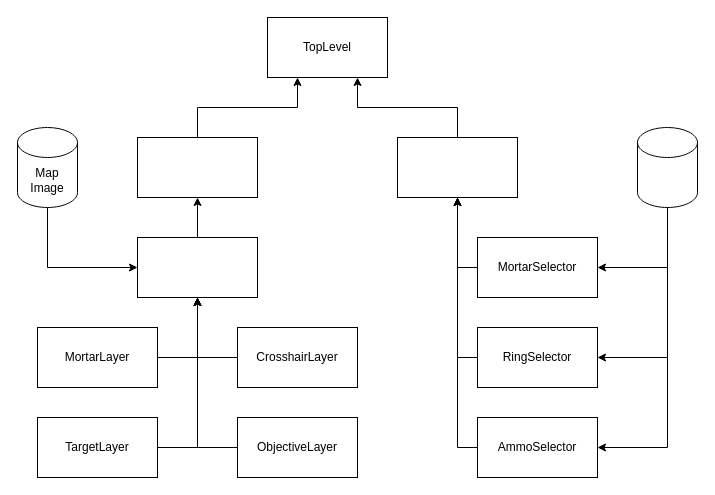
Some shapes in this 715 by 495 pixel diagram are drawn without their labels. Each missing label, with the box of its shape:
ControlPanel: (396, 136, 518, 198)
MapRenderer: (136, 236, 258, 298)
MapView: (136, 136, 258, 198)
Mortar Tables: (636, 126, 698, 208)
